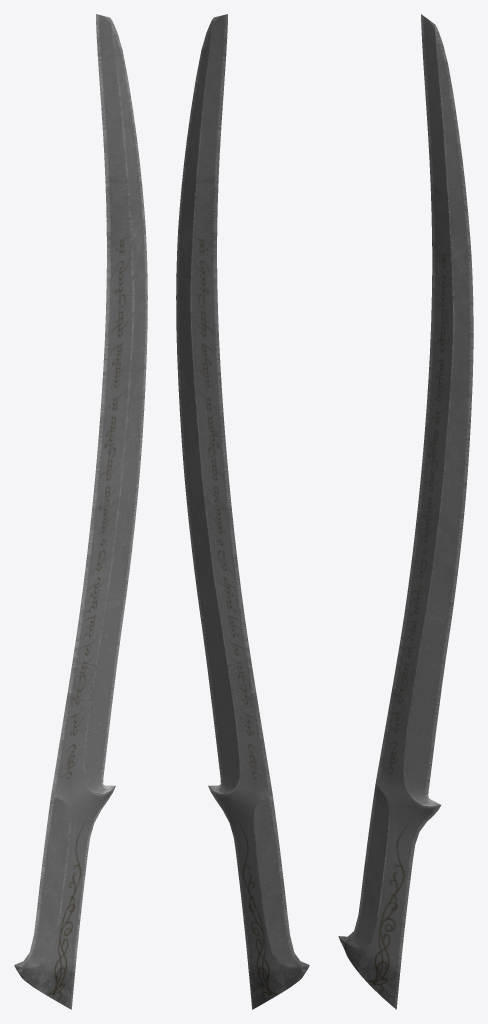
The model's file is wm_rivendell_sword_a01_blade.fbx.
3 renders of one model, left to right at view 1: azimuth 30°, elevation 25°; view 2: azimuth 150°, elevation 25°; view 3: azimuth 330°, elevation 25°, orthographic.
Parts seen in each view (by area): view 1: wm_rivendell_sword_a01_blade; view 2: wm_rivendell_sword_a01_blade; view 3: wm_rivendell_sword_a01_blade.
Part boxes in pixels (x1,y1,x2,y2): wm_rivendell_sword_a01_blade: (14, 14, 147, 1009); wm_rivendell_sword_a01_blade: (176, 14, 309, 1009); wm_rivendell_sword_a01_blade: (338, 14, 473, 1009).
Size of the model in its own units: 0.1286 by 0.00955 by 0.9101.
1 material, 1 textured.
